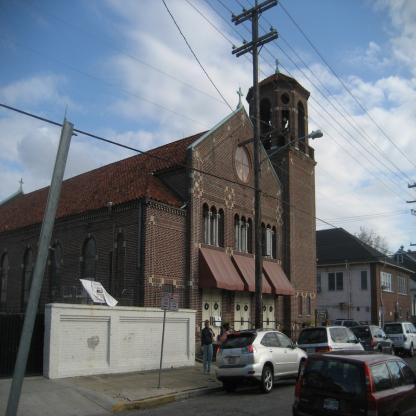Car: (291, 349, 416, 416), (215, 327, 309, 395), (296, 326, 366, 357), (351, 323, 395, 356), (385, 322, 416, 358)
